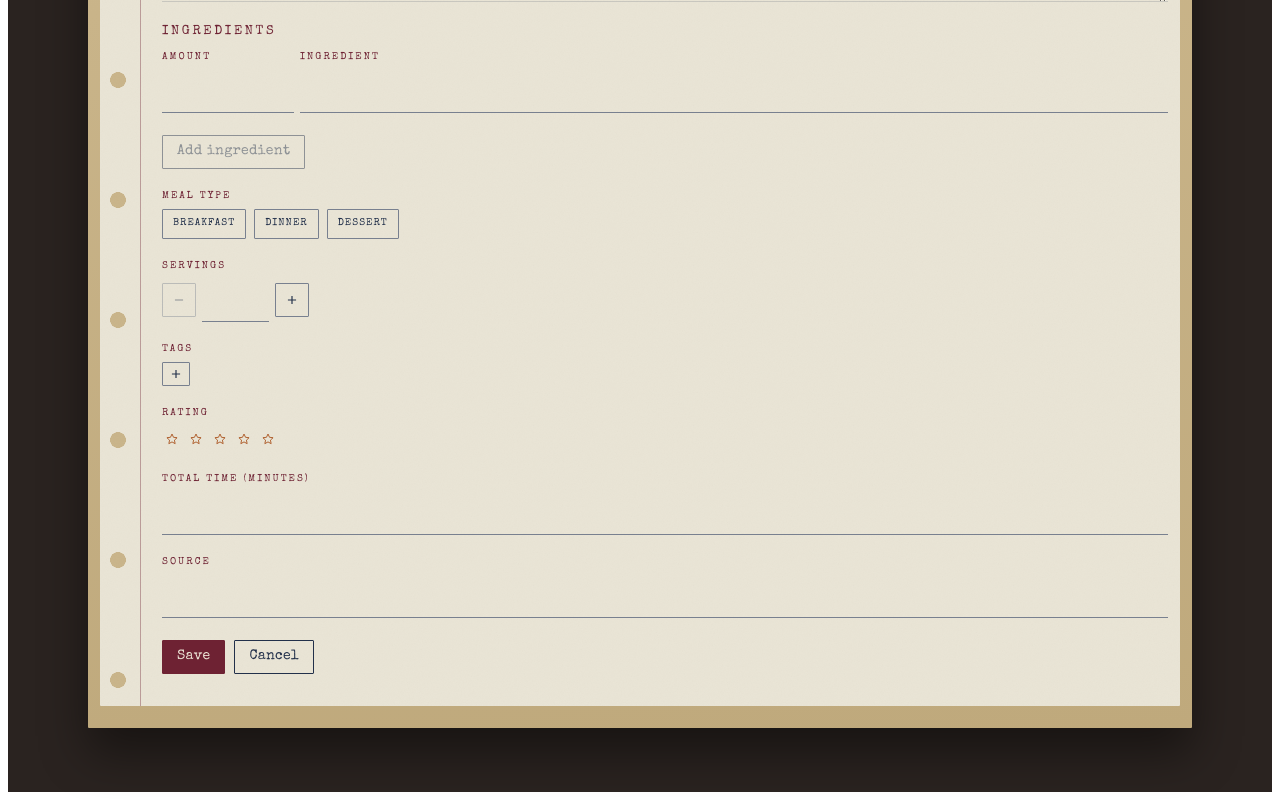
Scenario: validation at the field, not at save › rejects a non-numeric time on the keystroke
(page scrolled)
Step 1. Type "4o" into the field with test id "time" → (665, 513), box [162, 492, 1168, 534]
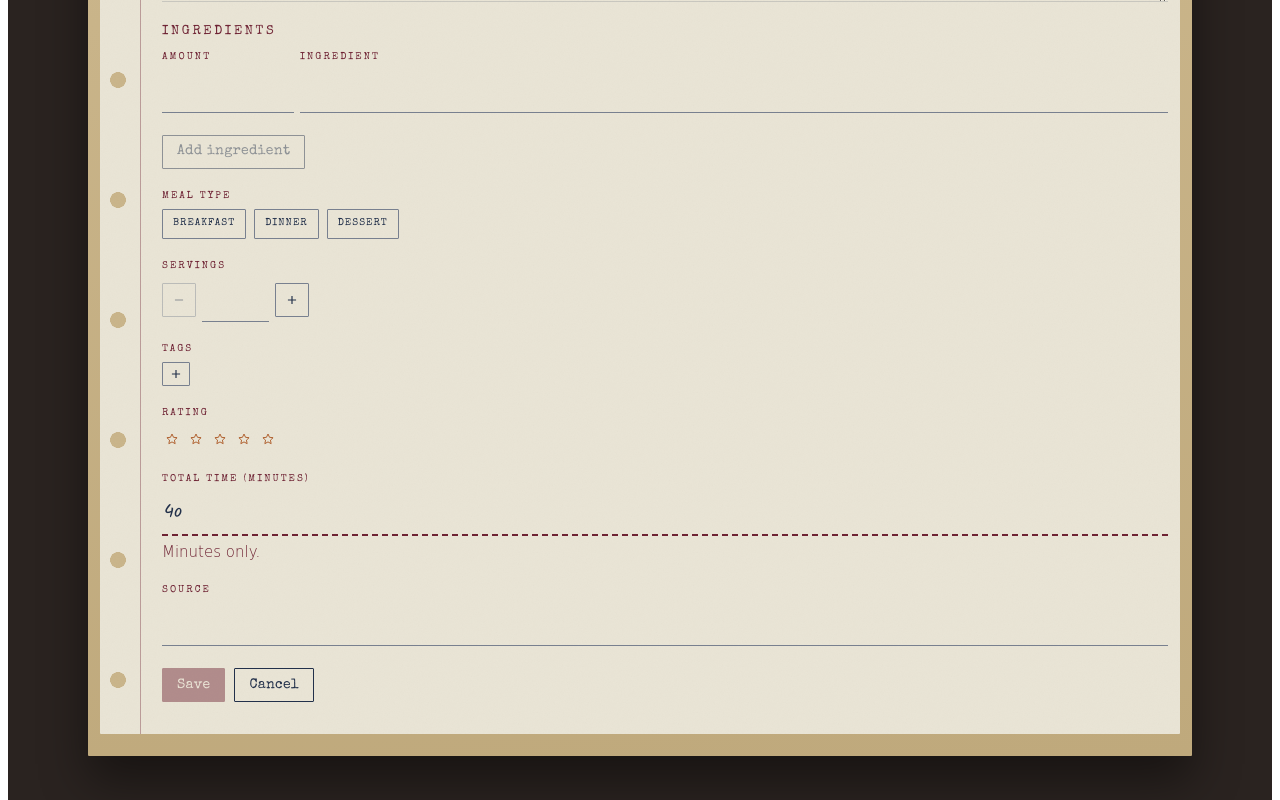
Expected: the message with test id "time-error" reads "Minutes only.", [162, 542, 260, 560]
